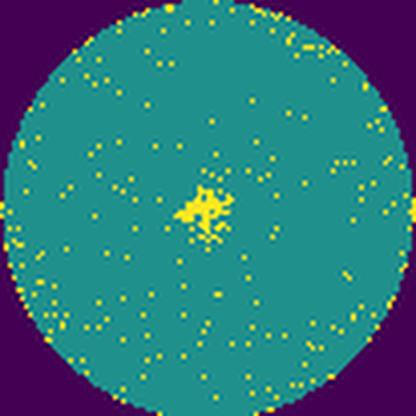Center: (177, 186, 234, 243)
